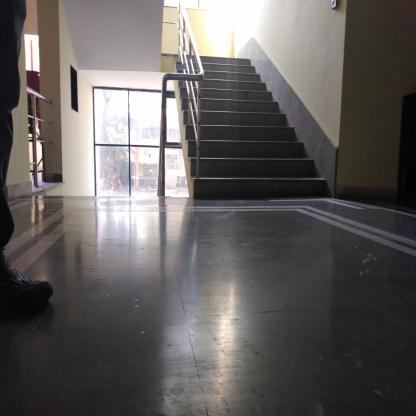stairs: (207, 56, 253, 205)
